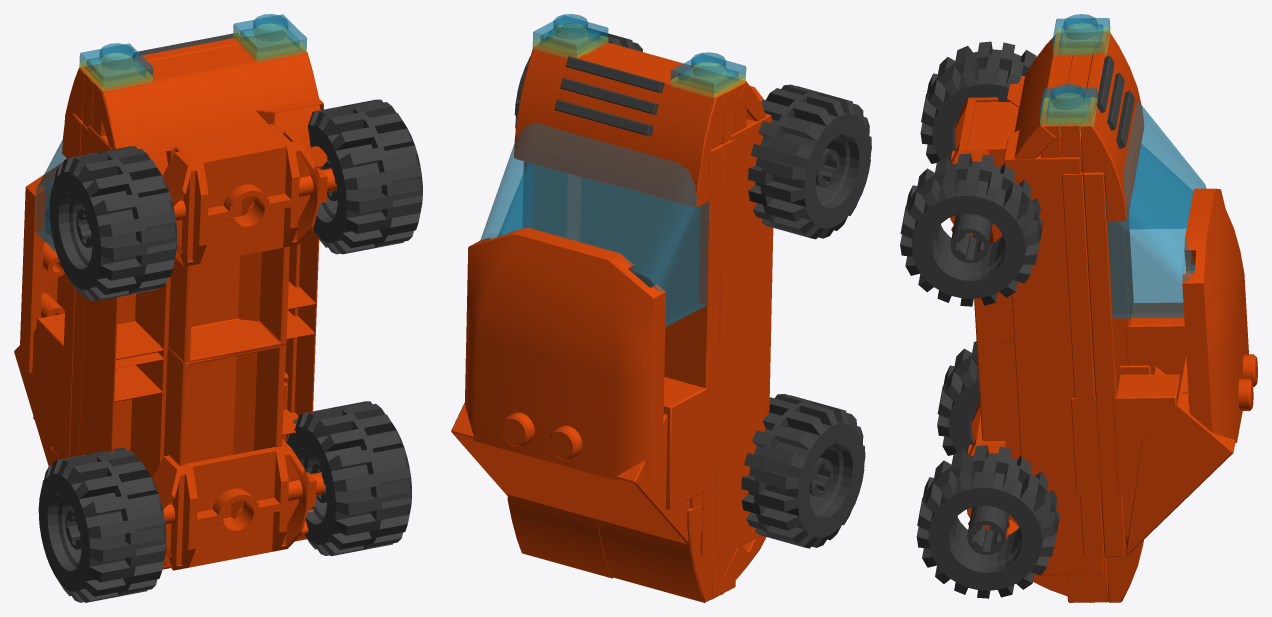
Rendered from red_lego_car.glb.
The picture shows the model from 3 angles, left to right: view 1: azimuth 30°, elevation 25°; view 2: azimuth 150°, elevation 25°; view 3: azimuth 270°, elevation 25°; orthographic projection. The views are drawn at different scales.
Visible parts, largest first — view 1: L1x4Flat5; view 2: L1x4Flat5; view 3: L1x4Flat5.
Part boxes in pixels (x1,y1,x2,y2): L1x4Flat5: (14, 14, 422, 602); L1x4Flat5: (451, 14, 871, 602); L1x4Flat5: (900, 14, 1257, 602).
Size of the model in its own units: 2.39 by 3.82 by 2.44.
